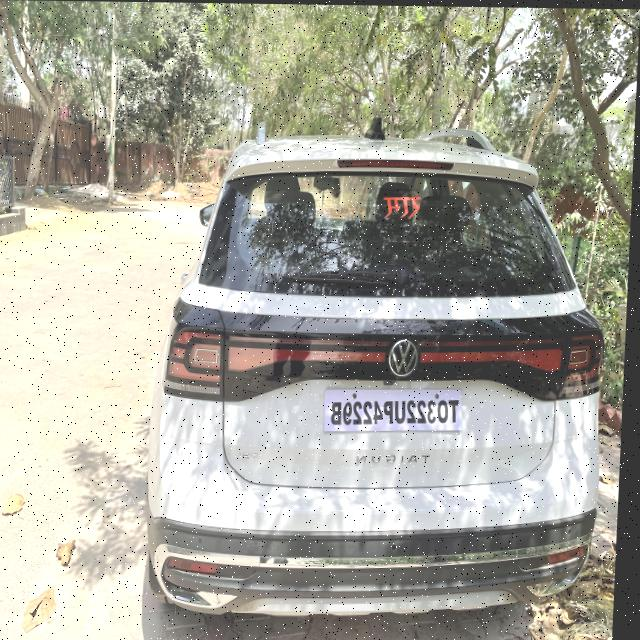plate: (326, 384, 468, 433)
